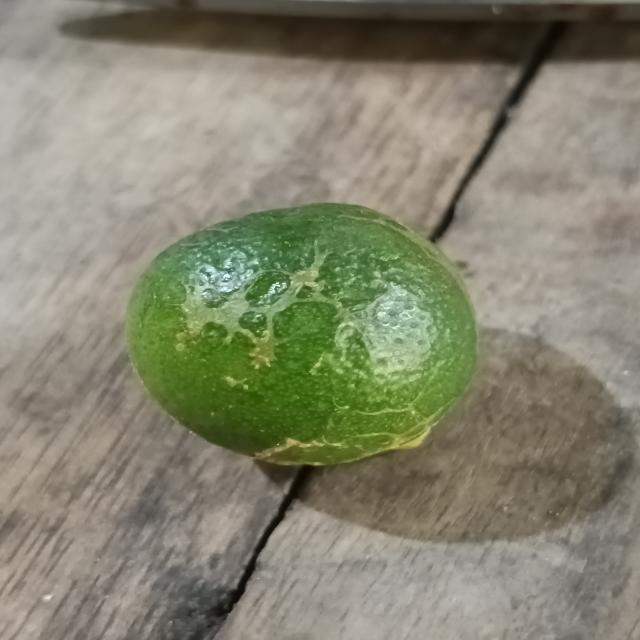thrips: (125, 209, 480, 473)
